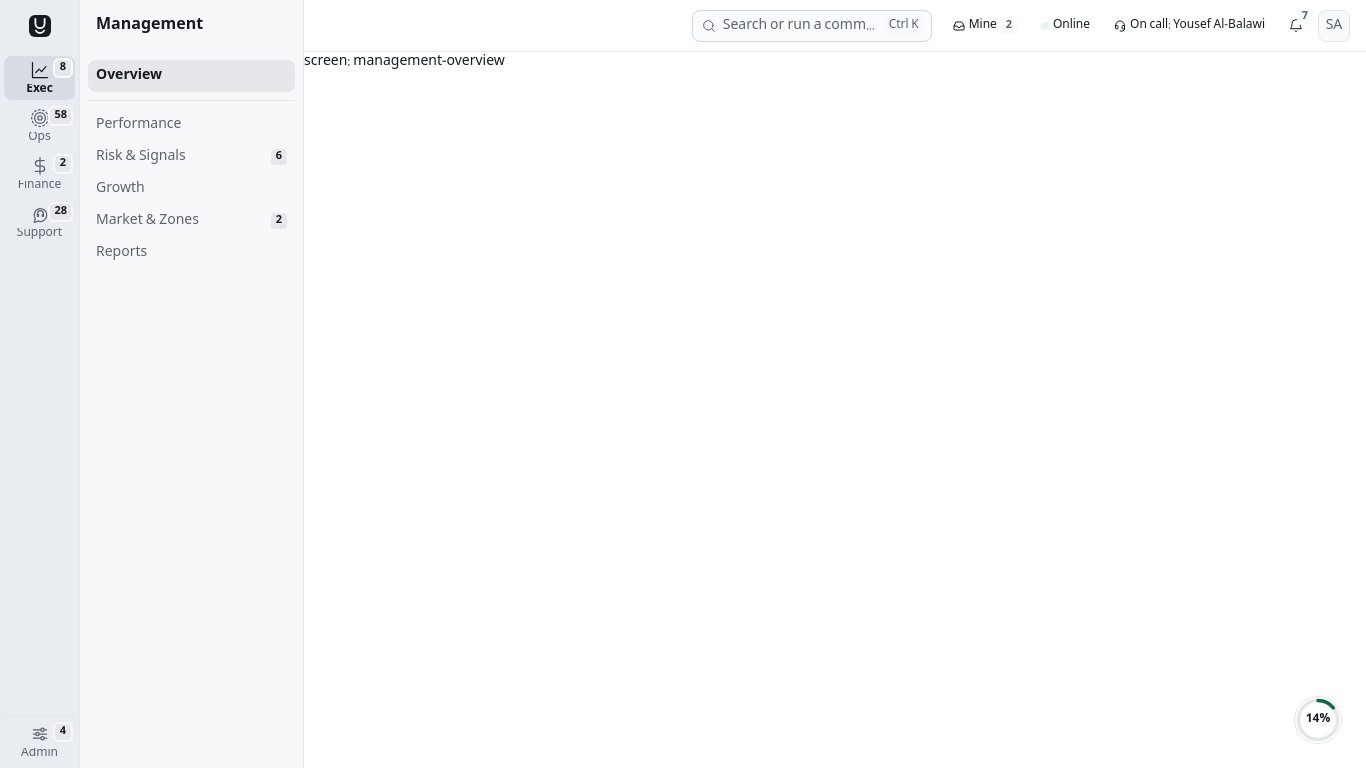
Beacon — "a ring with the percentage opens a small panel of the steps" › shows the percentage, lists the steps, and opens the full checklist on the next one
Click the button "14%" at (1318, 720), box [1294, 696, 1342, 744]
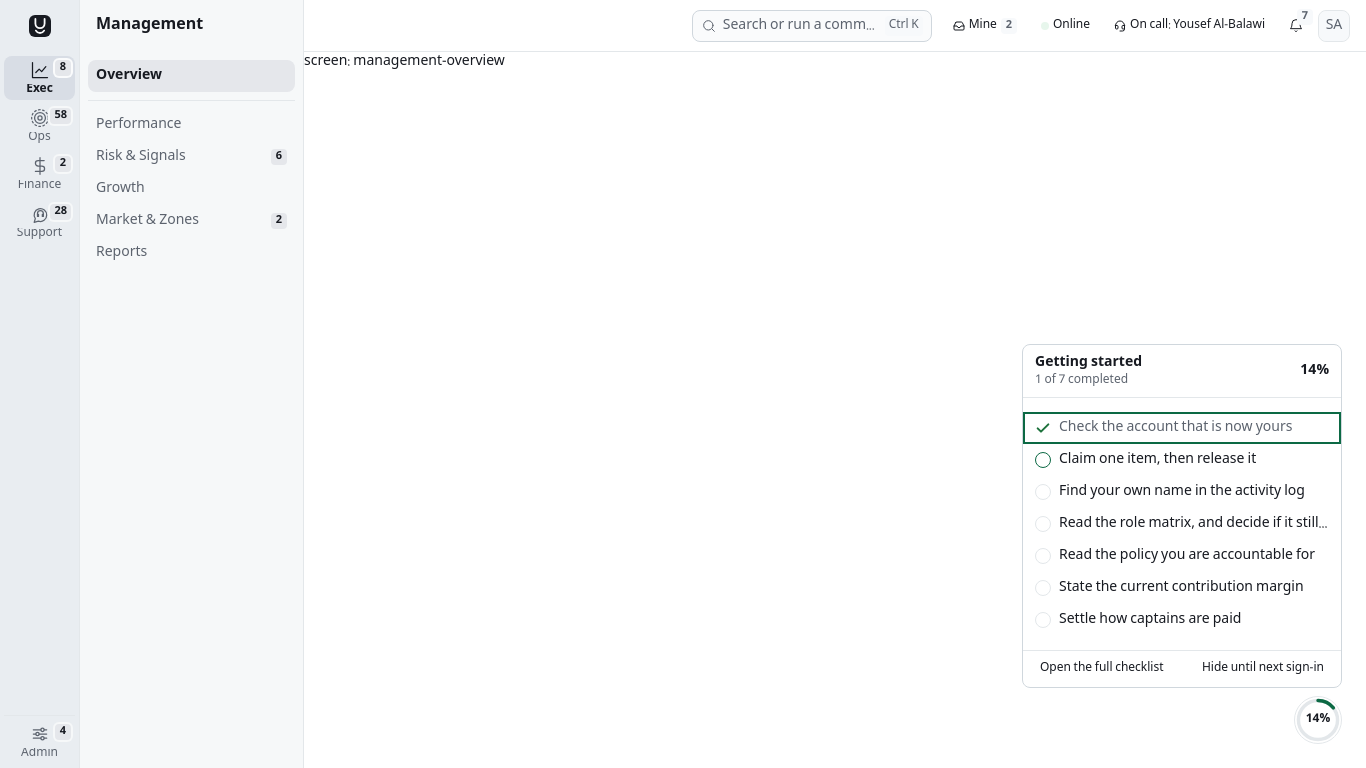
Expected: the text "Claim one item, then release it" is shown, [1059, 448, 1256, 472]
Expected: the text "14%" next to "Getting started" is shown, [1300, 359, 1329, 383]
Click the button "Open the full checklist" at (1102, 669), box [1031, 657, 1172, 681]
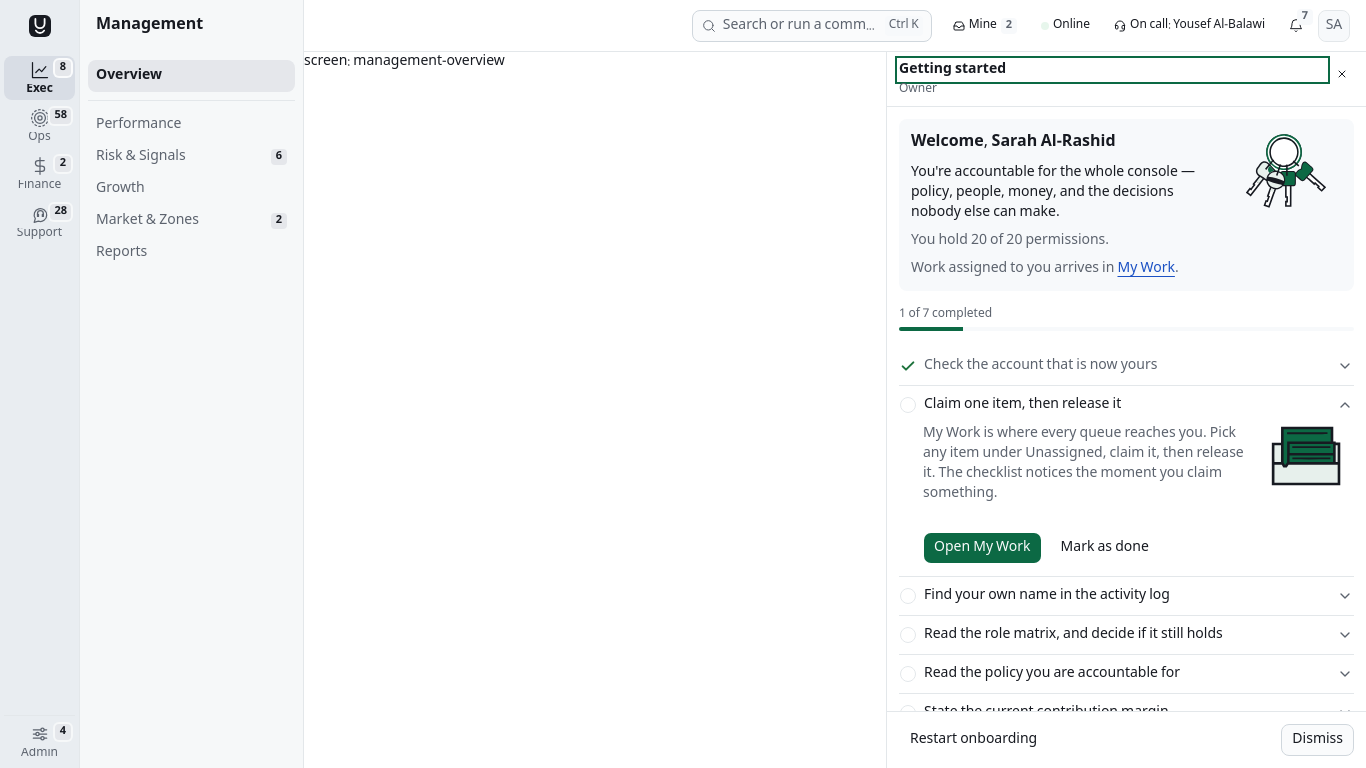
Expected: the text "My Work is where every queue reaches you. Pick any item under Unassigned, claim it, then release it. The checklist notic" is shown, [923, 424, 1244, 506]
Expected: the element with test id "onboarding-beacon" is gone
